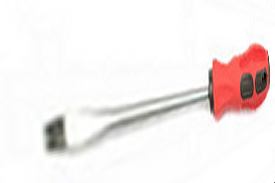Screwdriver: (41, 40, 273, 156)
